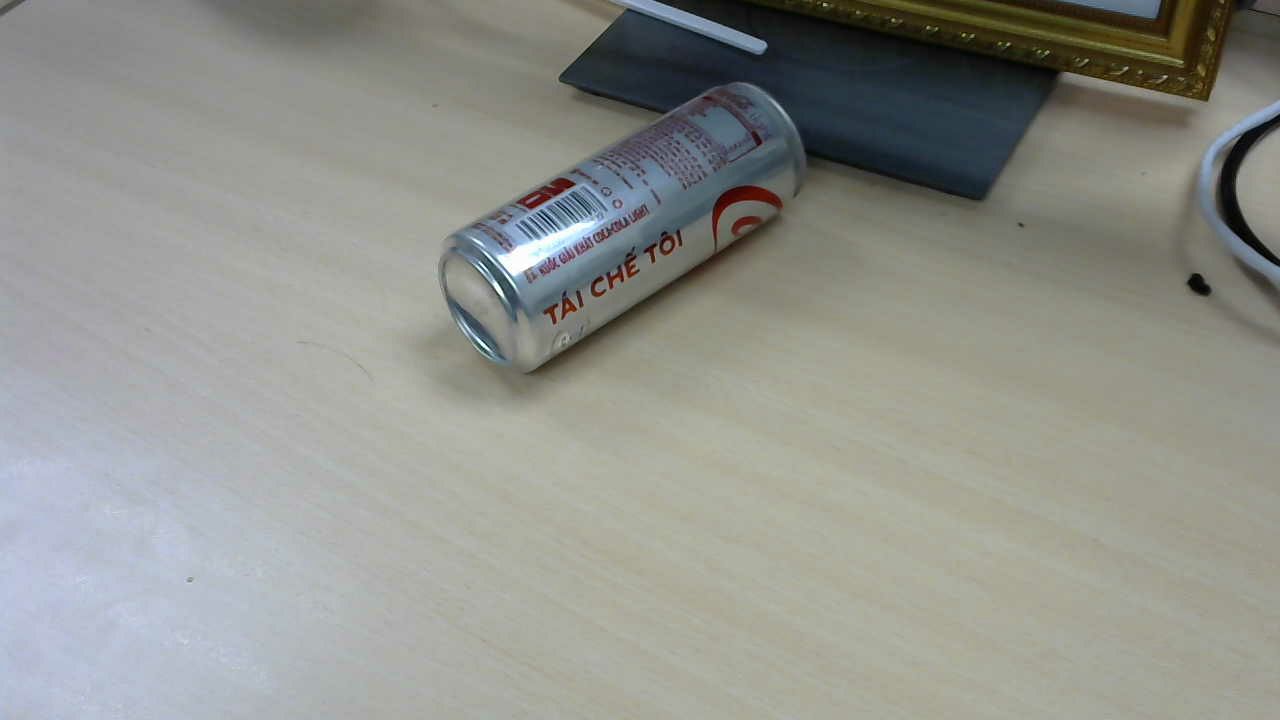Coca_Cola: (442, 80, 814, 382)
